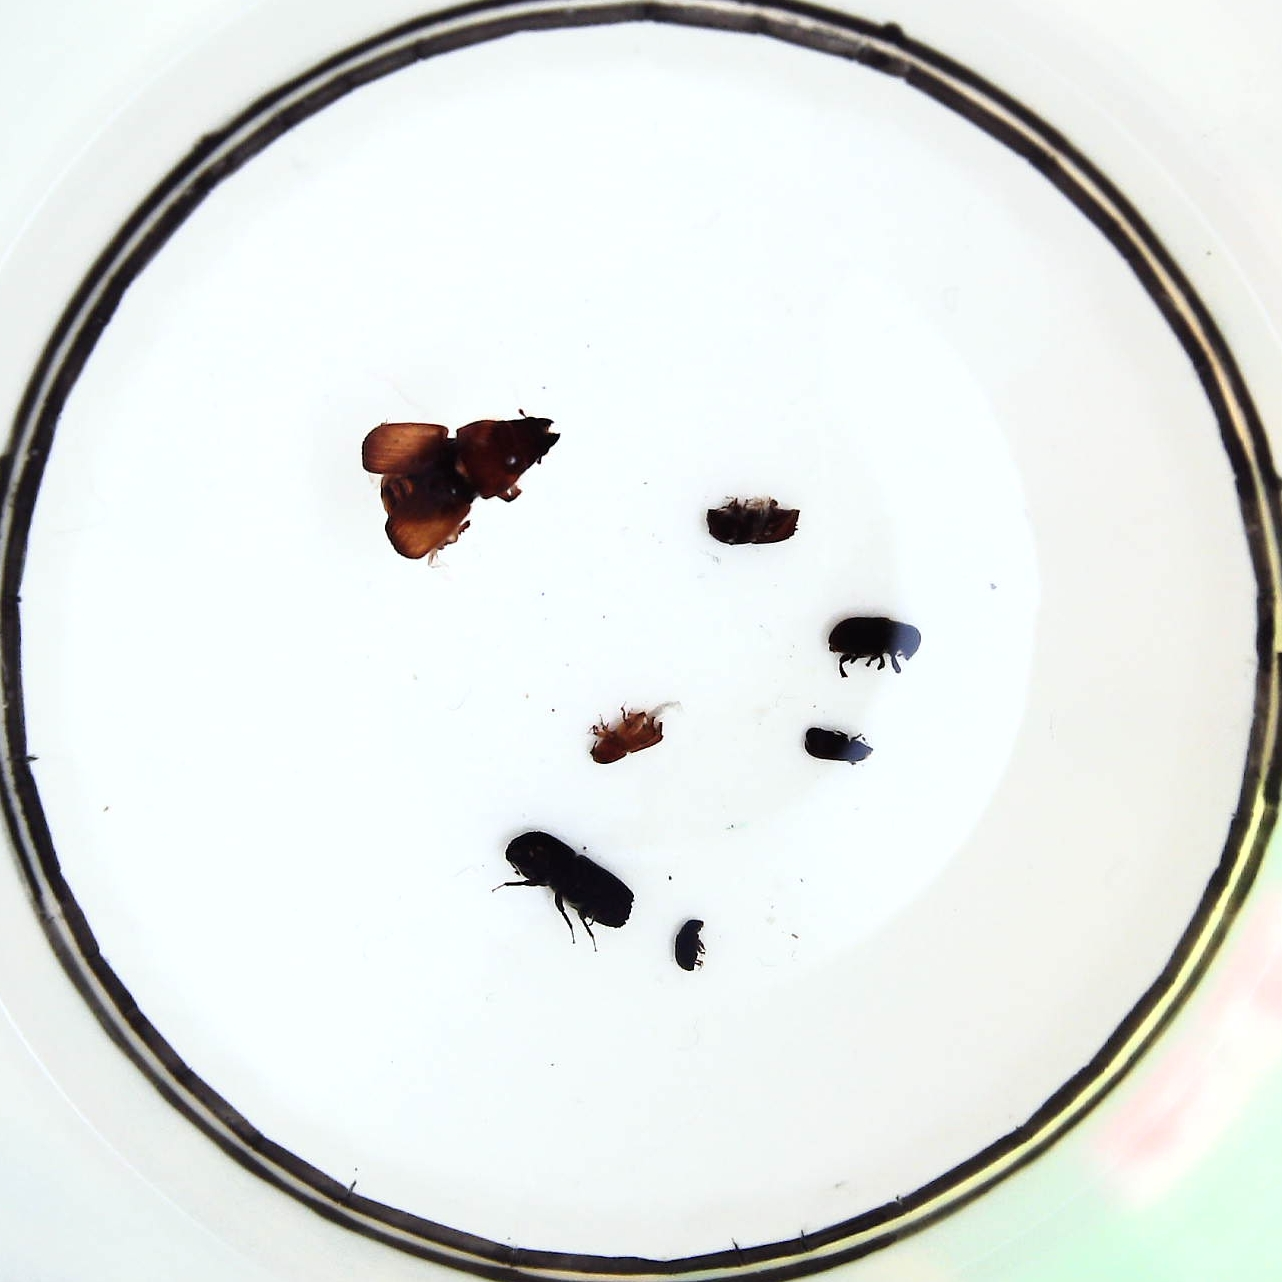Boerner: (505, 834, 633, 931)
Leconte: (363, 414, 556, 559)
Linnaeus: (709, 498, 799, 547)
acuminatus: (589, 703, 666, 764)
armandi: (826, 613, 920, 677)
coleoptera: (802, 724, 873, 767), (672, 922, 708, 973)
